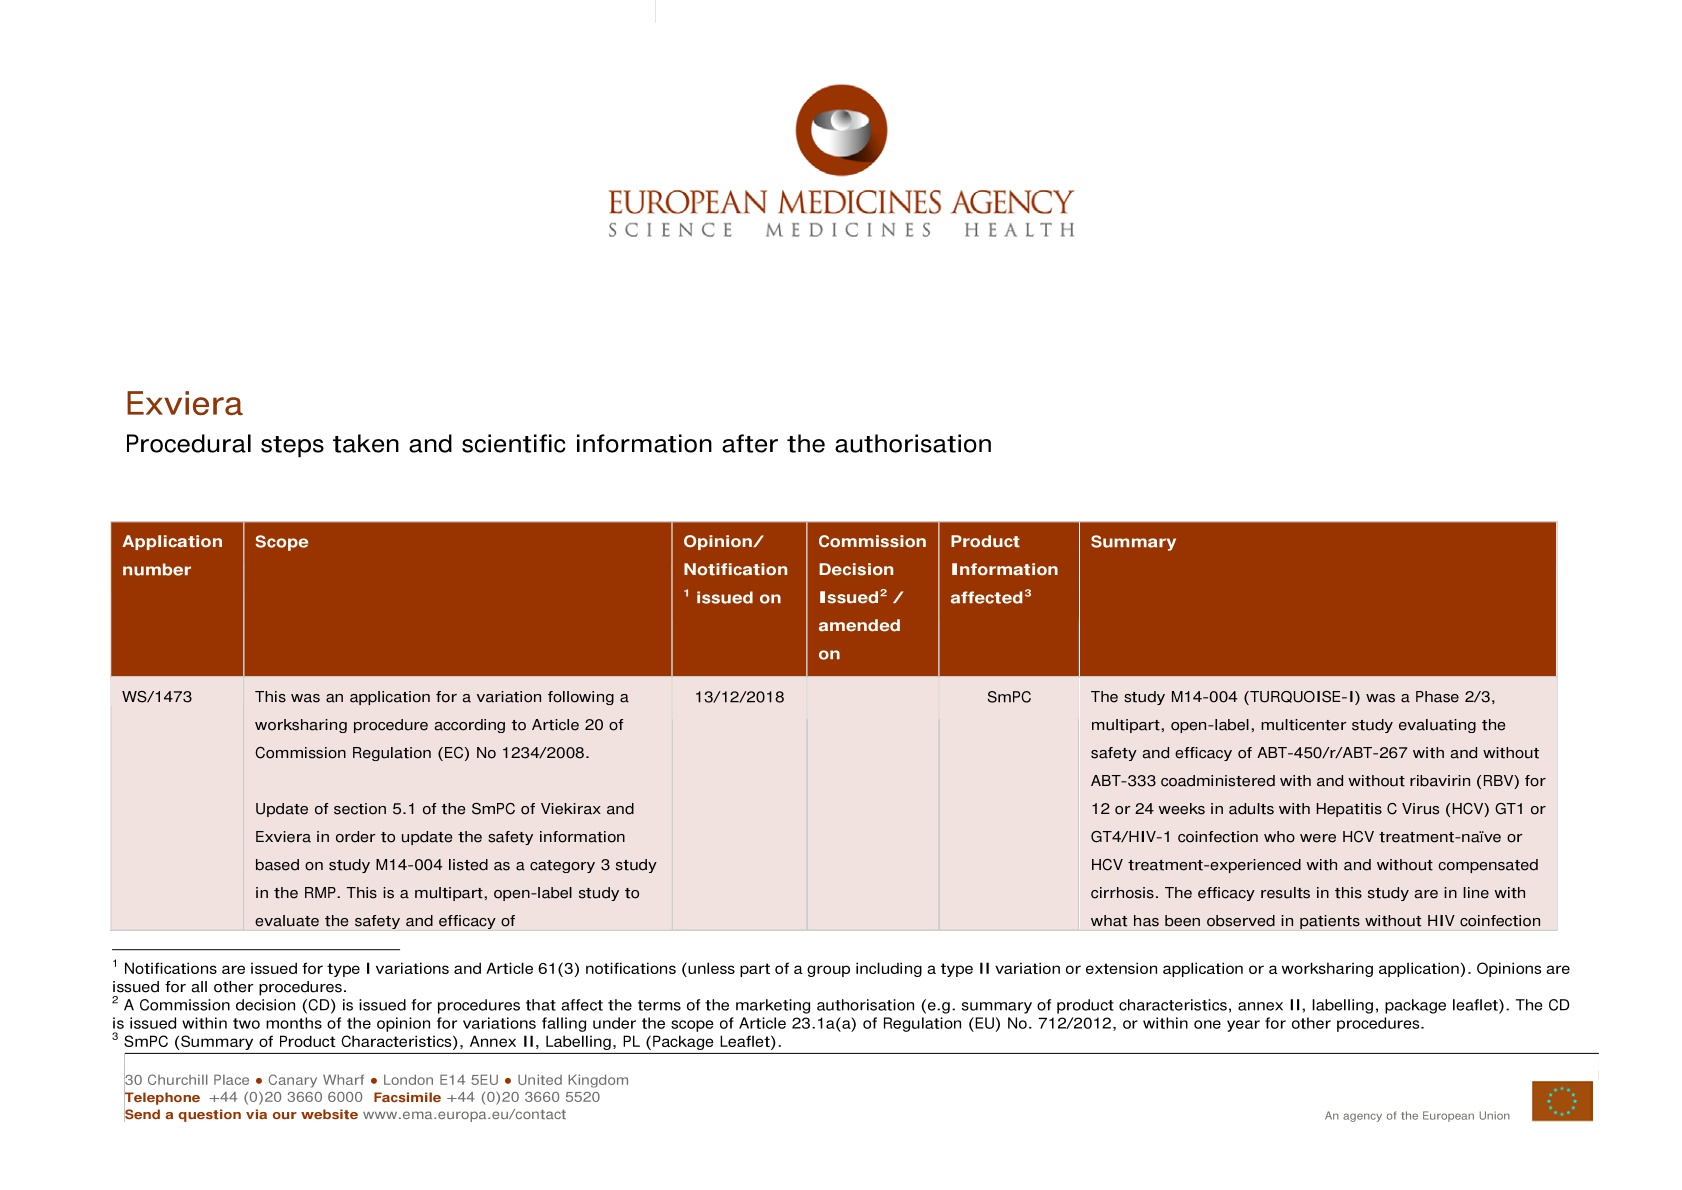full_lined: (108, 519, 1560, 932)
